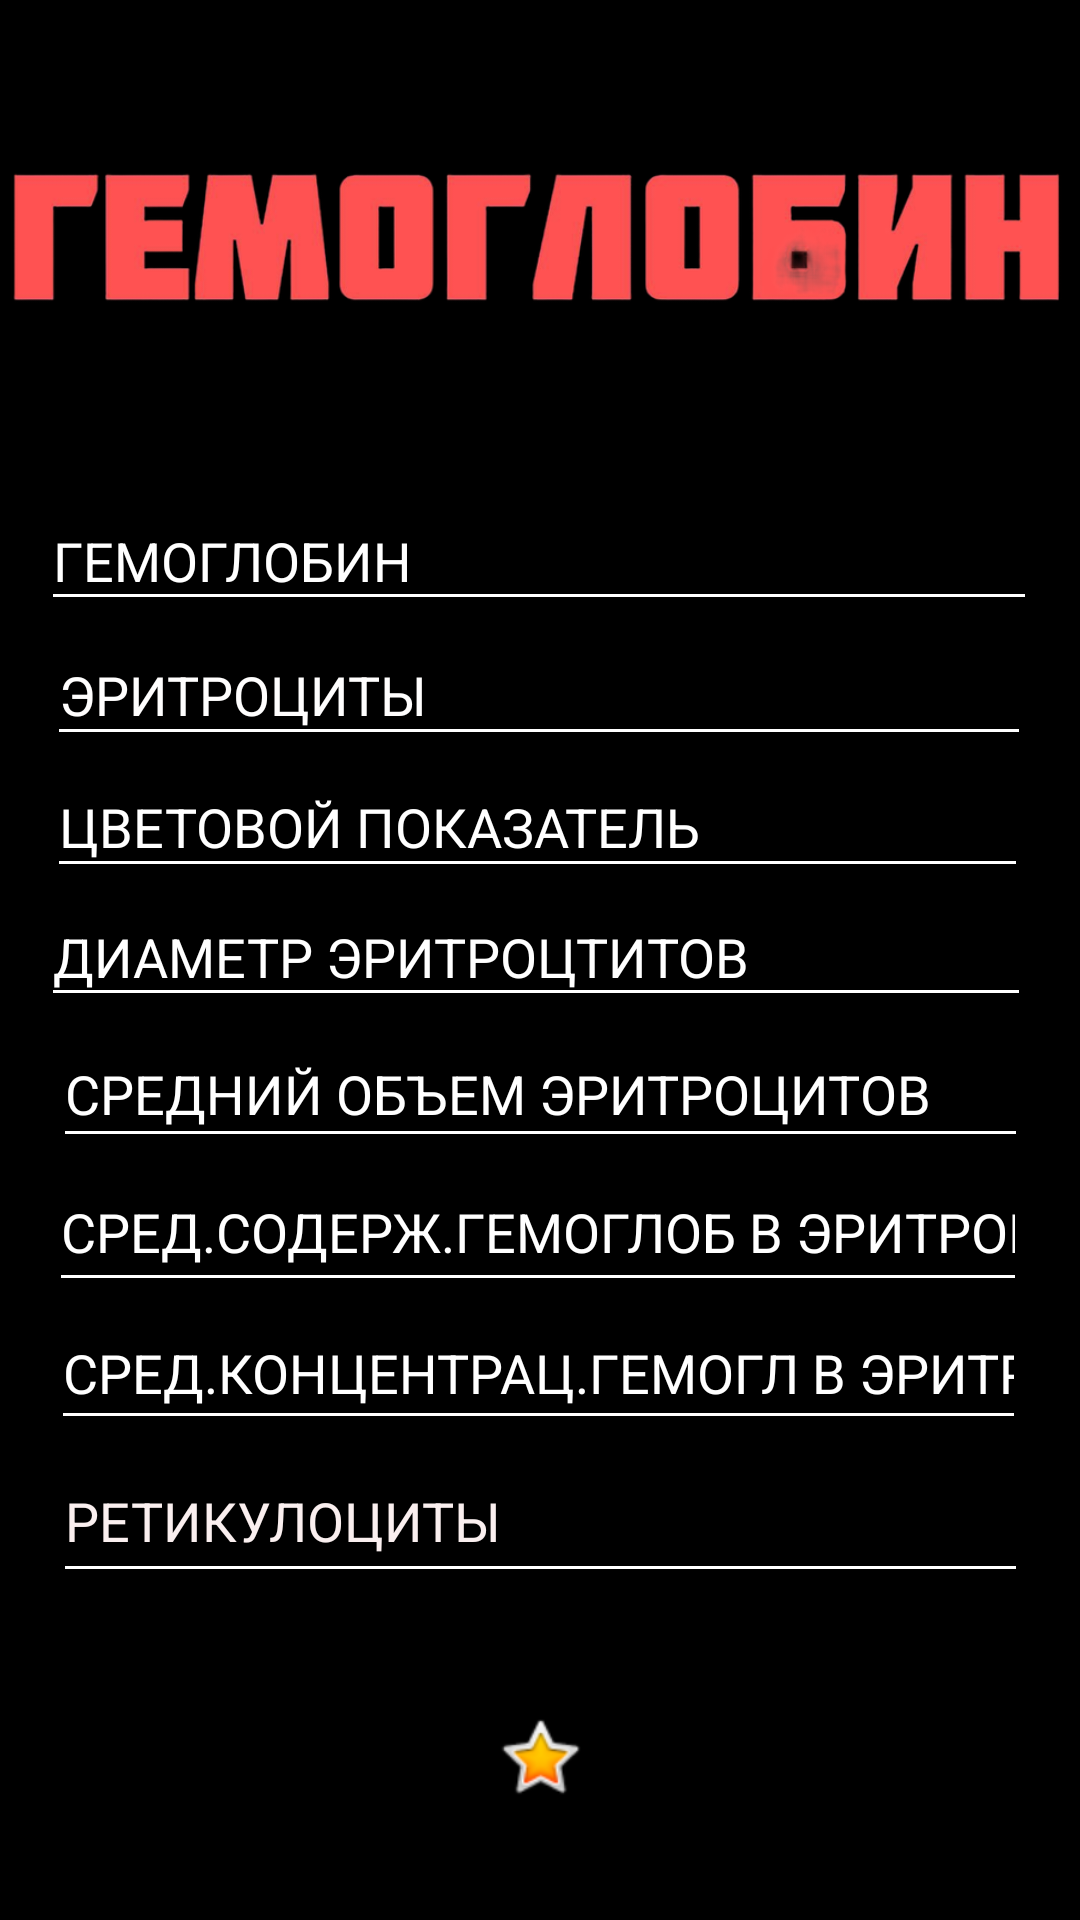

Named icons in this screenshot (1080 x 1920) and their bounding boxes, {"left": x1, "top": y1, "right": x2, "bottom": y2}:
star on: {"left": 502, "top": 1720, "right": 580, "bottom": 1794}
